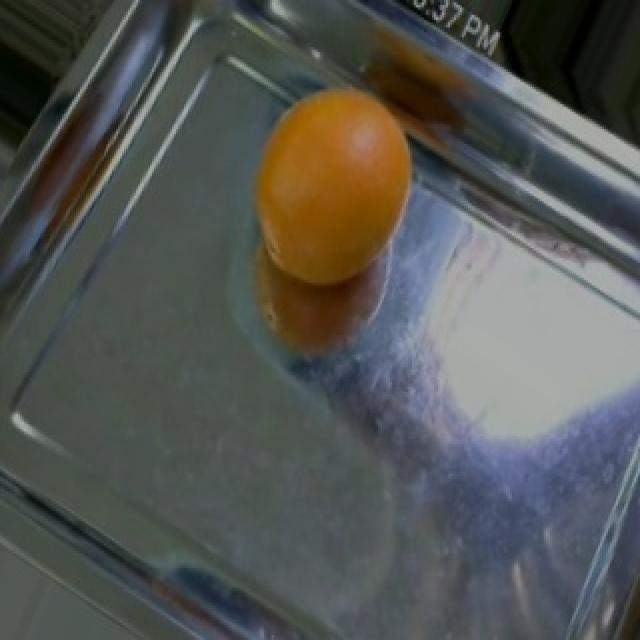Fruit: (240, 67, 438, 303)
